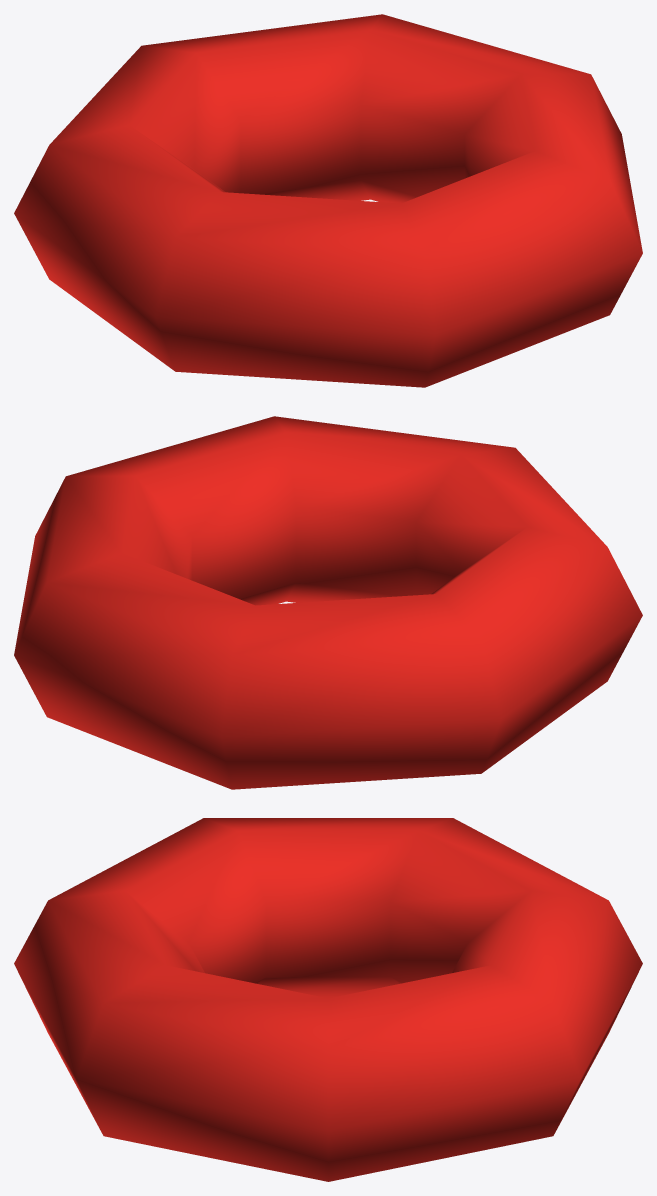
File: Mama.fbx
3 renders of one model, top to bottom at view 1: azimuth 30°, elevation 25°; view 2: azimuth 150°, elevation 25°; view 3: azimuth 270°, elevation 25°, orthographic.
Visible parts, largest first — view 1: Mama; view 2: Mama; view 3: Mama.
Boxes of the visible parts, left/top/right/bottom form: Mama: left=14, top=14, right=642, bottom=387; Mama: left=14, top=416, right=642, bottom=789; Mama: left=14, top=818, right=642, bottom=1181.
Bounding box in the file's own units: 122 × 36.73 × 125.
